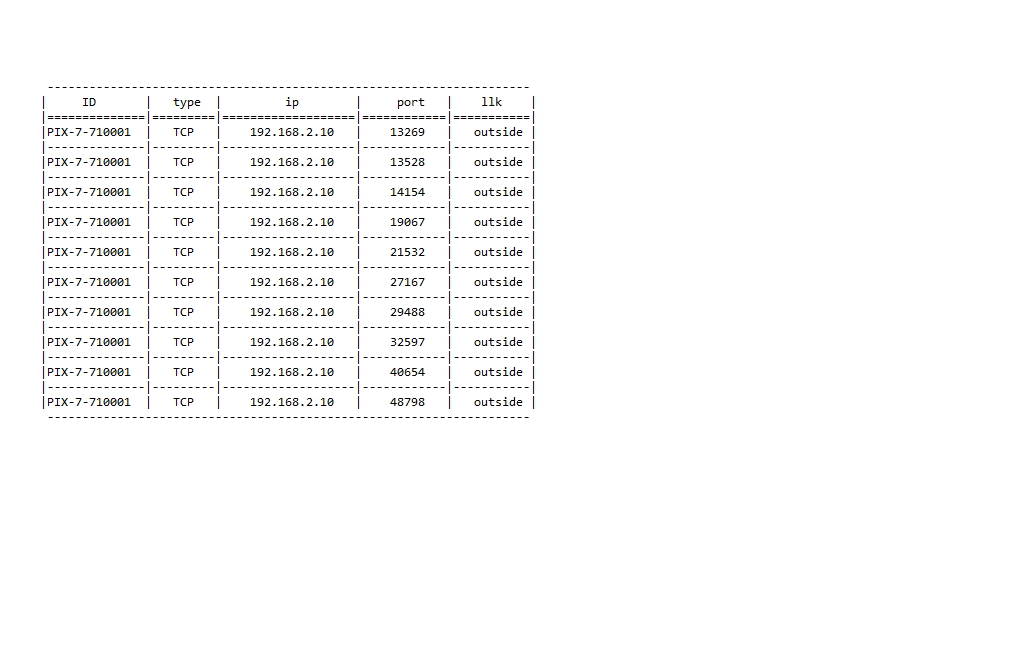table: (36, 84, 541, 423)
